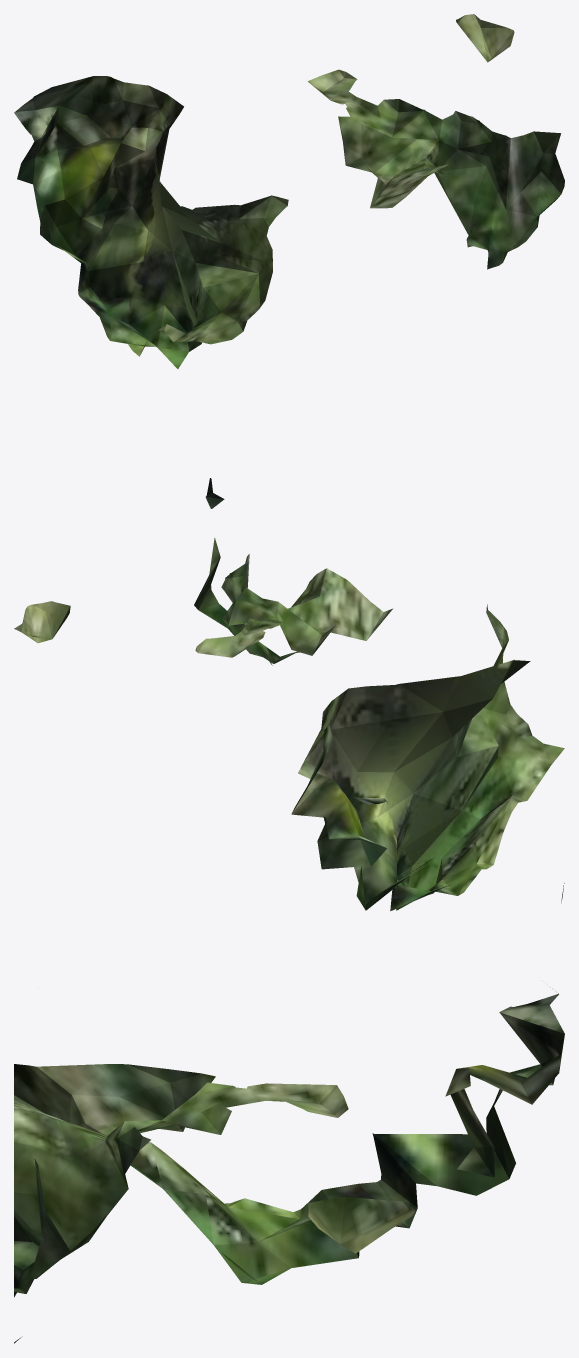
3 views of the same model, one above another, from view 1: azimuth 30°, elevation 25°; view 2: azimuth 150°, elevation 25°; view 3: azimuth 270°, elevation 25° (orthographic). The views are drawn at different scales.
Bounding box in the file's own units: 13.5 × 8.91 × 11.08.
1 material, 1 textured.
